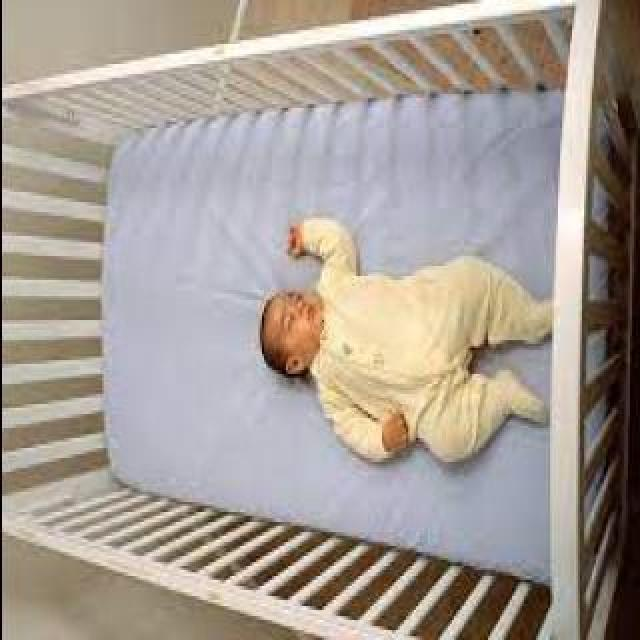baby: (253, 220, 553, 466)
